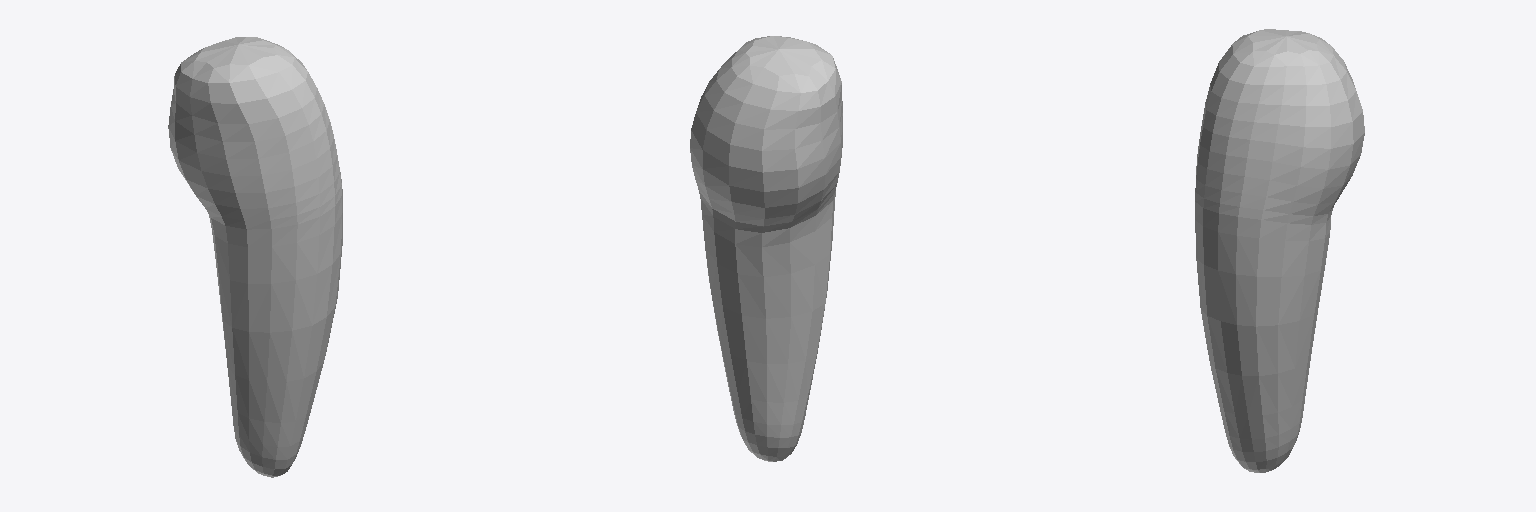
The model's file is Harley_Pierna_L_1.obj.
3 renders of one model, left to right at view 1: azimuth 30°, elevation 25°; view 2: azimuth 150°, elevation 25°; view 3: azimuth 270°, elevation 25°, orthographic.
Parts seen in each view (by area): view 1: Harley_Pierna_L_1; view 2: Harley_Pierna_L_1; view 3: Harley_Pierna_L_1.
Boxes of the visible parts, <box> form: Harley_Pierna_L_1: <box>168,37,342,477</box>; Harley_Pierna_L_1: <box>690,36,842,461</box>; Harley_Pierna_L_1: <box>1195,29,1364,472</box>.
Size of the model in its own units: 0.1763 by 0.52 by 0.1886.